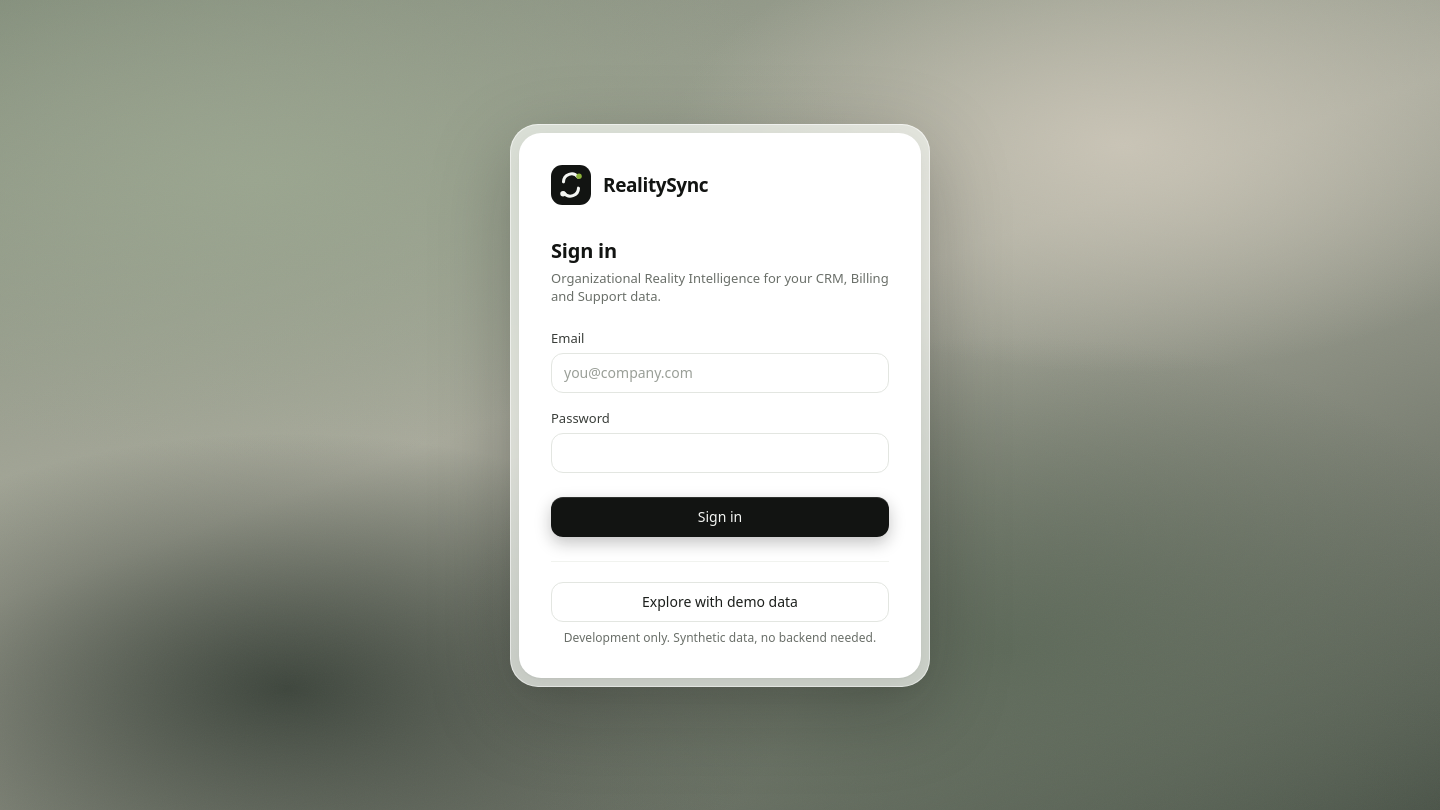
Test: login page › explains a wrong password and clears the password field
The image size is (1440, 810).
Type "riya.sharma@example.com" into the field labelled "Email" at (720, 372), box [551,352,889,392]
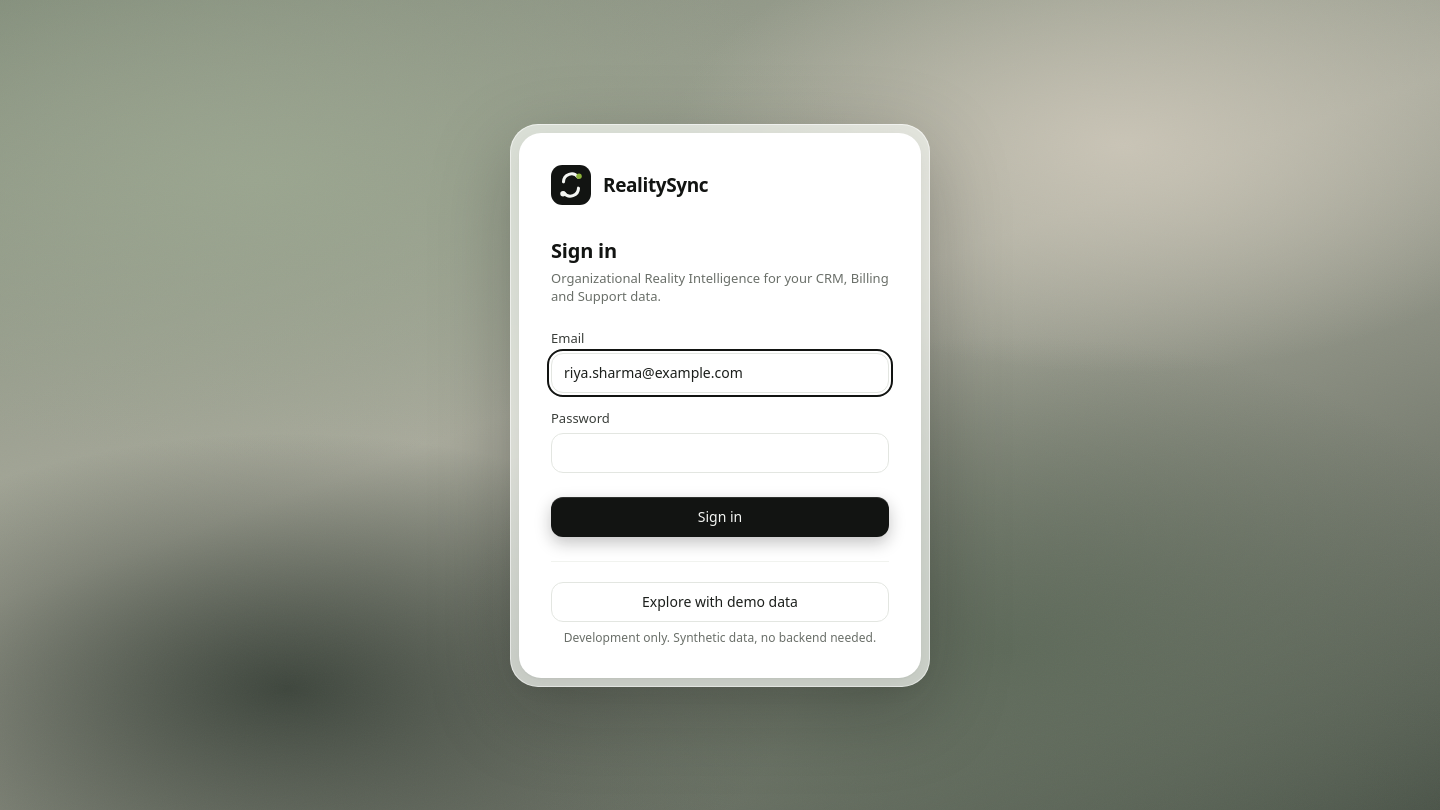
Type "Wrong-password-1" into the password field labelled "Password" at (720, 452), box [551,432,889,472]
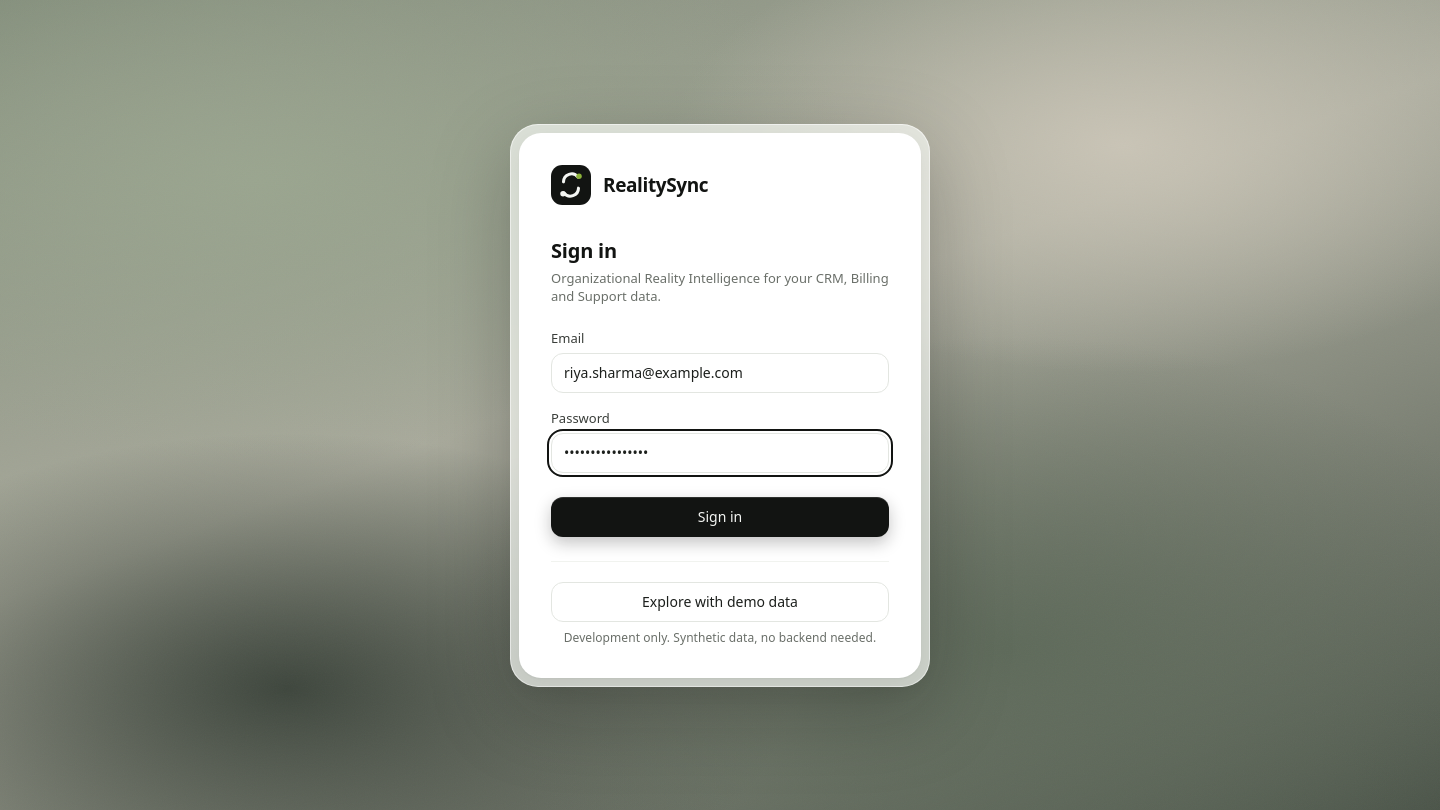
Click the button "Sign in" at (720, 516), box [551,496,889,536]
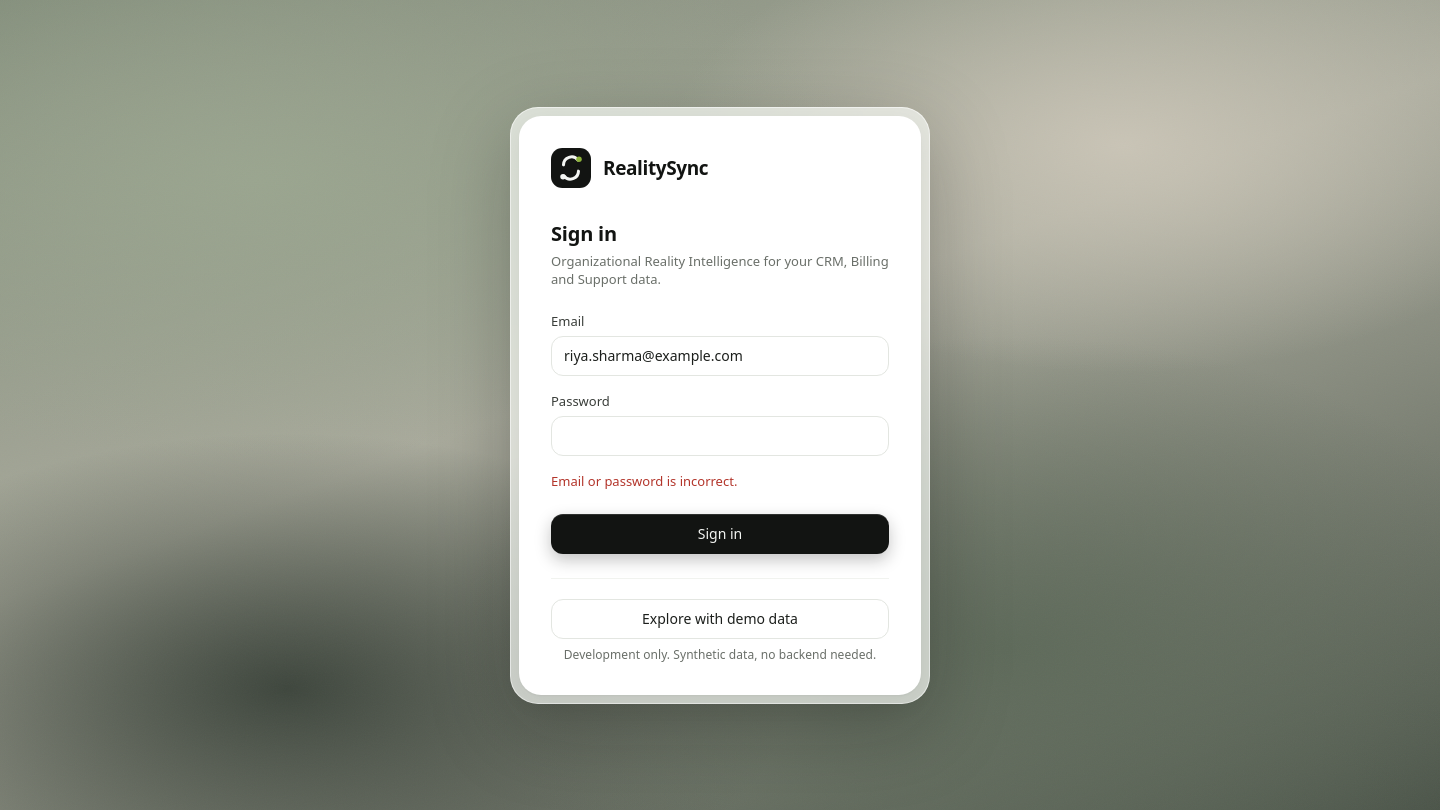
Check: the message reads "Email or password is incorrect.", box [551,472,737,490]
Check: the password field labelled "Password" is empty, box [551,416,889,456]
